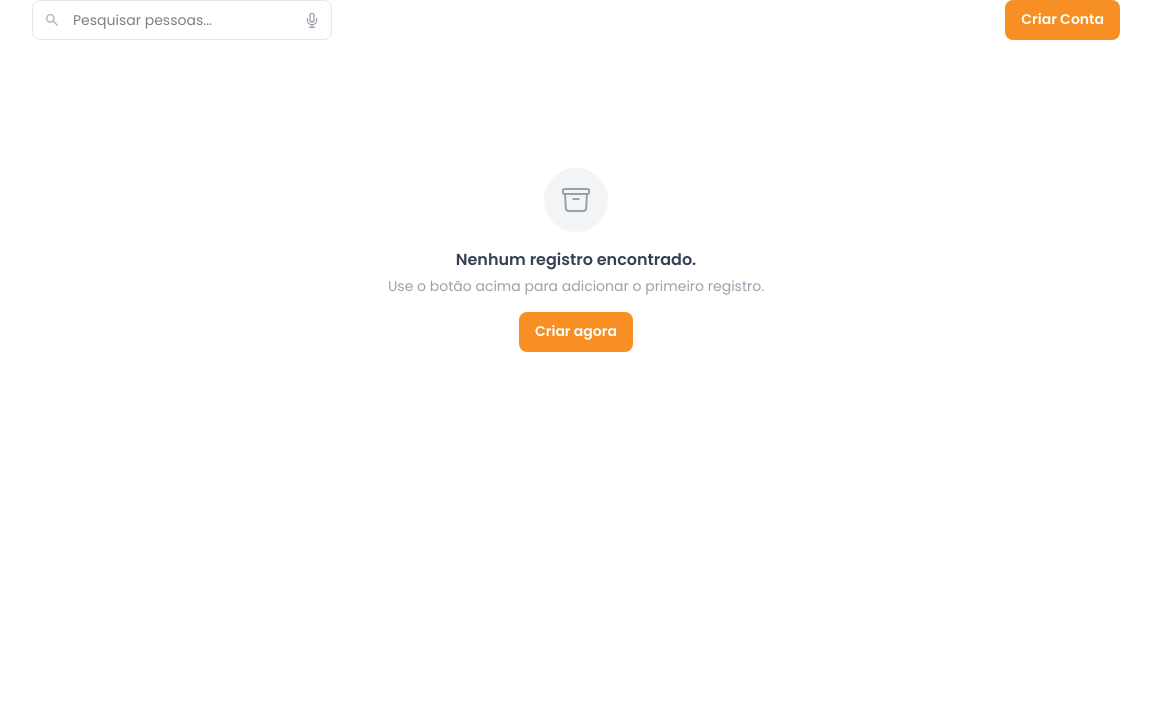
Scenario: UserManagementPage — listagem › lista vazia com formulário de criação oferece "Criar agora"
The width and height of the screenshot is (1152, 720).
Expected: the text "Use o botão acima para adicionar o primeiro registro." is shown, [388,276,764,296]
Step 1. Click the button "Criar agora" → (576, 332), box [519,312,633,352]
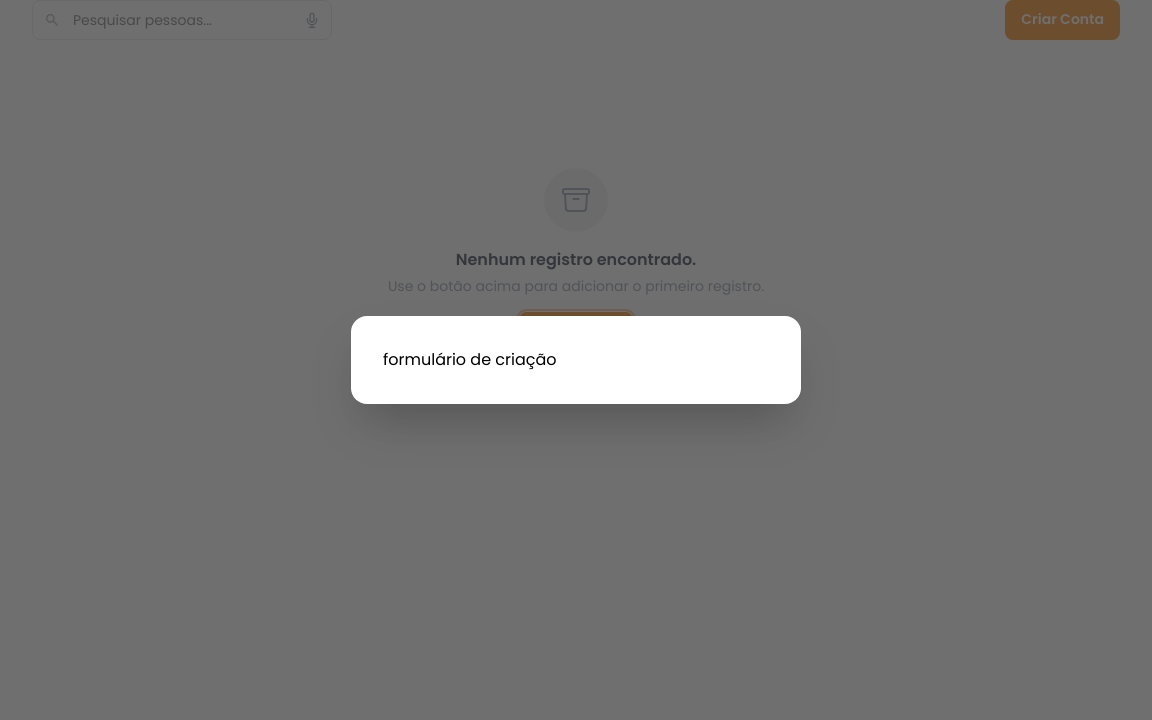
Expected: the text "formulário de criação" is shown, [383,348,557,371]
